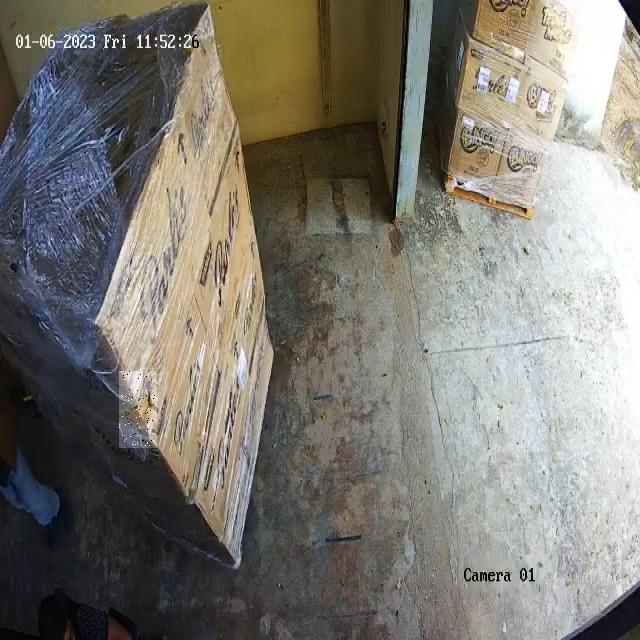leakage: (120, 372, 155, 446)
